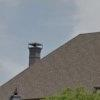Chimney: (19, 35, 46, 65)
